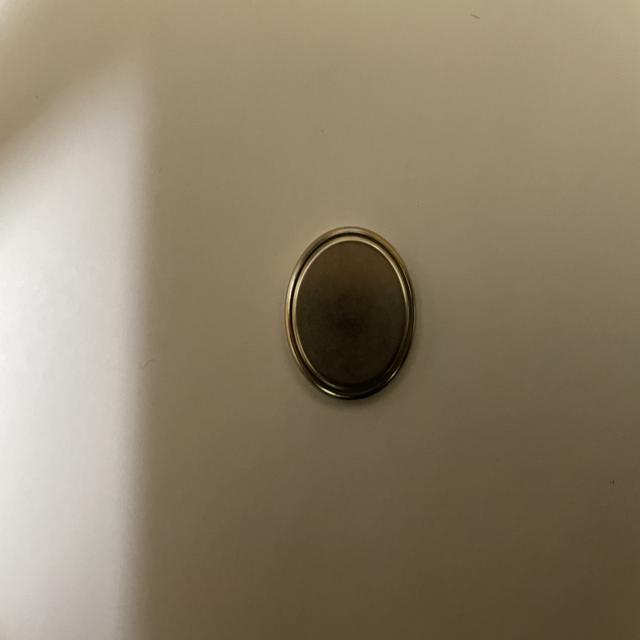COIN: (284, 225, 416, 404)
